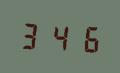four: (46, 19, 72, 53)
six: (73, 20, 99, 55)
three: (18, 17, 44, 52)
